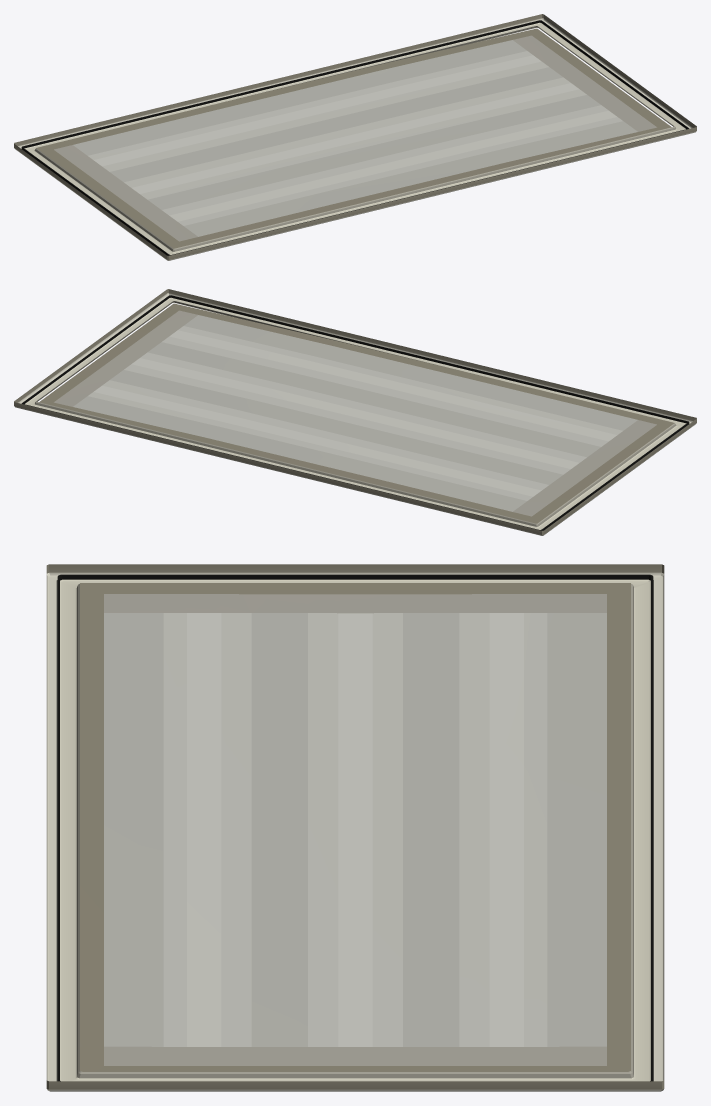
Rendered from troffer_off@1.glb.
3 views of the same model, one above another, from view 1: azimuth 30°, elevation 25°; view 2: azimuth 150°, elevation 25°; view 3: azimuth 270°, elevation 25° (orthographic). The views are drawn at different scales.
Visible parts, largest first — view 1: rasterleuchte; view 2: rasterleuchte; view 3: rasterleuchte.
Part boxes in pixels (<box>): rasterleuchte: <box>14,14,696,260</box>; rasterleuchte: <box>14,289,696,535</box>; rasterleuchte: <box>46,564,664,1091</box>.
Size of the model in its own units: 1.21 by 0.0122 by 0.612.
